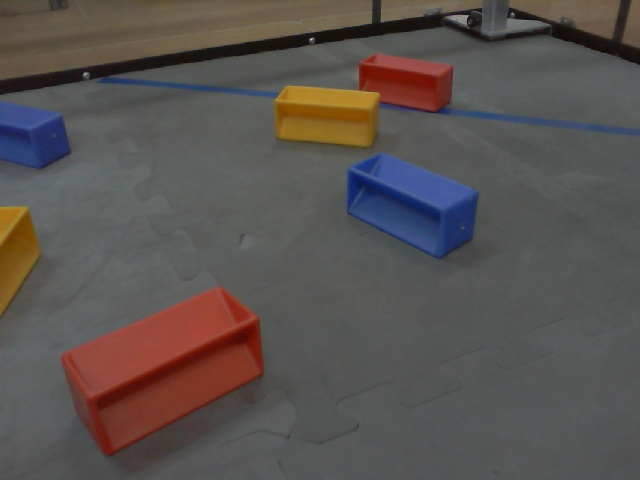BlueSample: (344, 148, 478, 262), (1, 101, 73, 172)
RedSample: (58, 284, 268, 456), (356, 51, 453, 115)
YellowSample: (268, 81, 382, 152), (1, 202, 43, 322)
